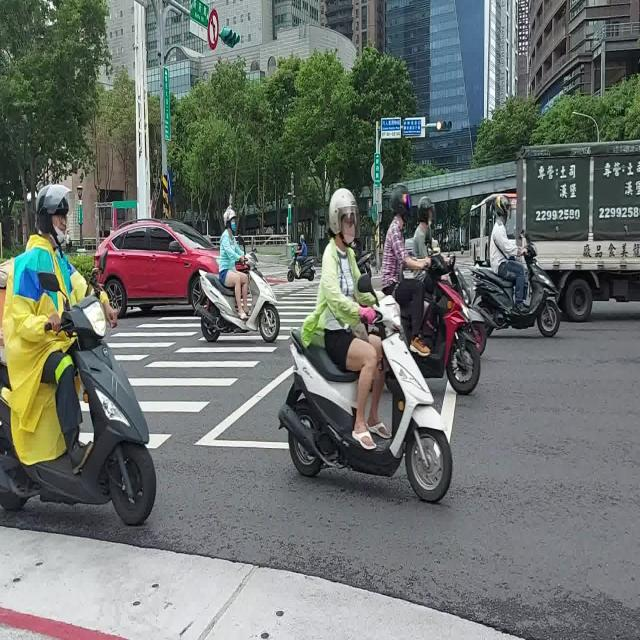bus: (469, 193, 499, 266), (506, 193, 516, 238)
car: (95, 218, 219, 318)
crosswalk: (126, 281, 320, 449), (106, 315, 201, 362), (271, 277, 312, 296)
motocycle: (0, 269, 156, 524), (279, 289, 452, 502), (415, 249, 480, 394), (471, 242, 560, 337), (200, 249, 280, 342), (450, 256, 488, 356), (286, 249, 315, 282)
trunk: (518, 140, 640, 320)
